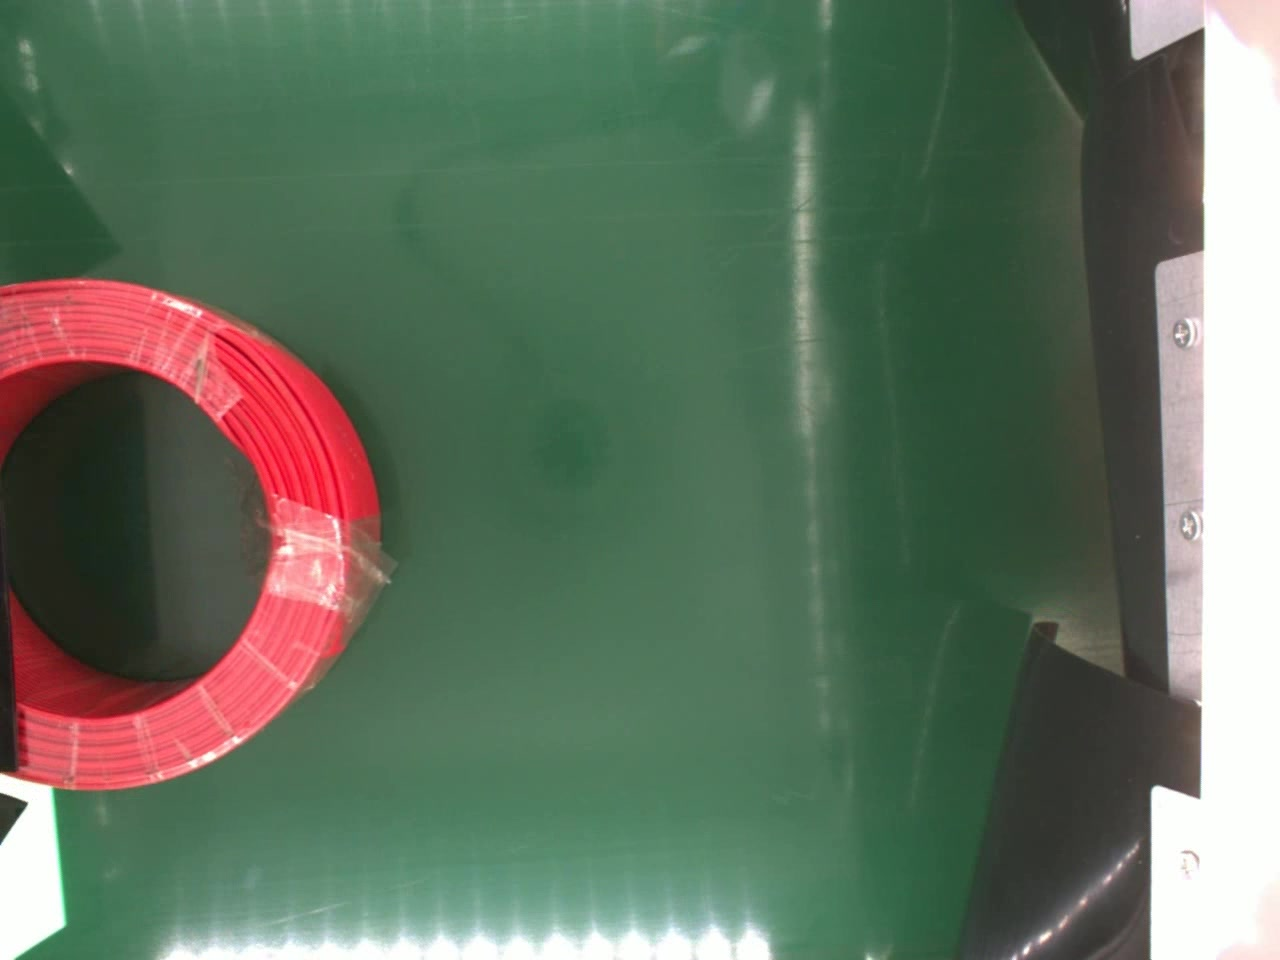red: (0, 274, 387, 797)
